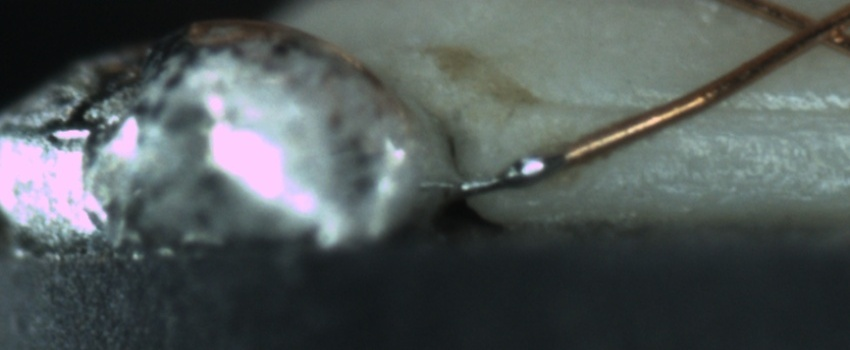CL: (770, 2, 847, 55)
DL: (490, 83, 850, 147)
TB: (502, 152, 561, 191)
TS: (461, 150, 567, 197)
TTCW: (454, 134, 599, 197)
